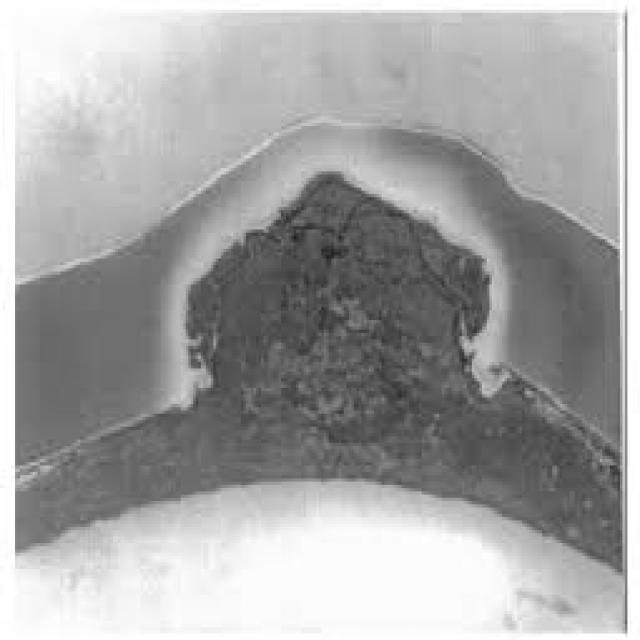crack: (147, 97, 543, 506)
